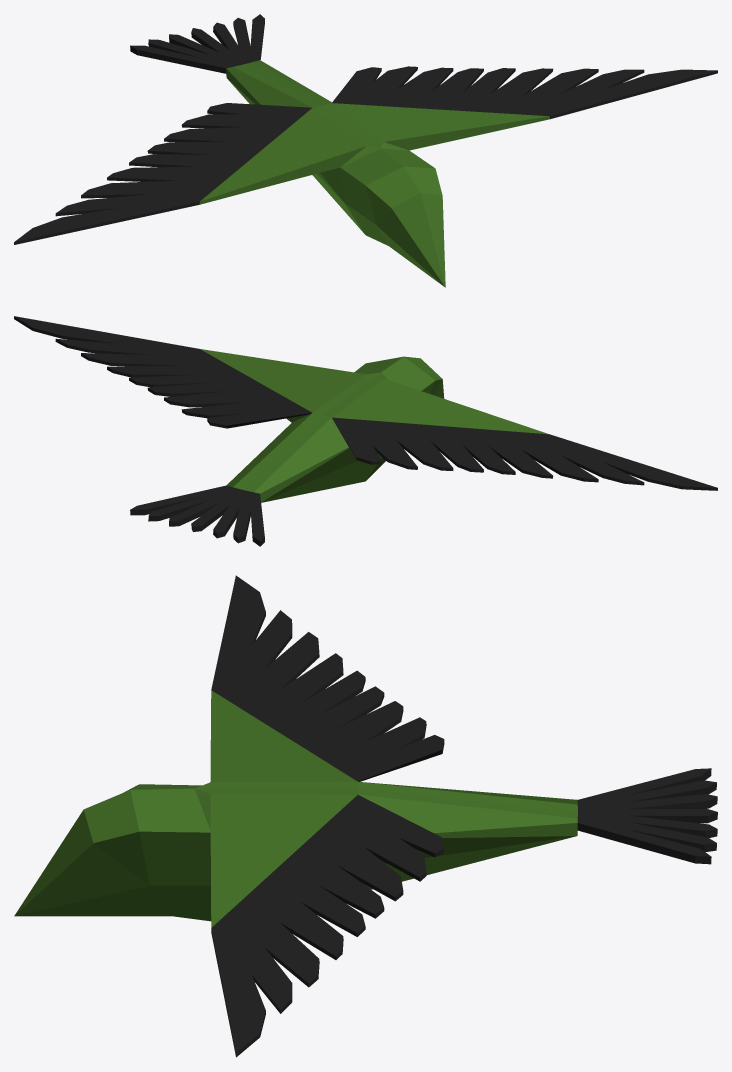
File: prop_pa_bird.glb
3 renders of one model, top to bottom at view 1: azimuth 30°, elevation 25°; view 2: azimuth 150°, elevation 25°; view 3: azimuth 270°, elevation 25°, orthographic. The views are drawn at different scales.
Visible parts, largest first — view 1: 23smolbirdFinal; view 2: 23smolbirdFinal; view 3: 23smolbirdFinal.
Boxes of the visible parts, bbox=[...] form: 23smolbirdFinal: bbox=[14, 14, 717, 287]; 23smolbirdFinal: bbox=[14, 316, 717, 546]; 23smolbirdFinal: bbox=[14, 575, 717, 1057].
Size of the model in its own units: 0.5807 by 0.0773 by 0.3613.
Materials: 1 (1 with a texture image).
